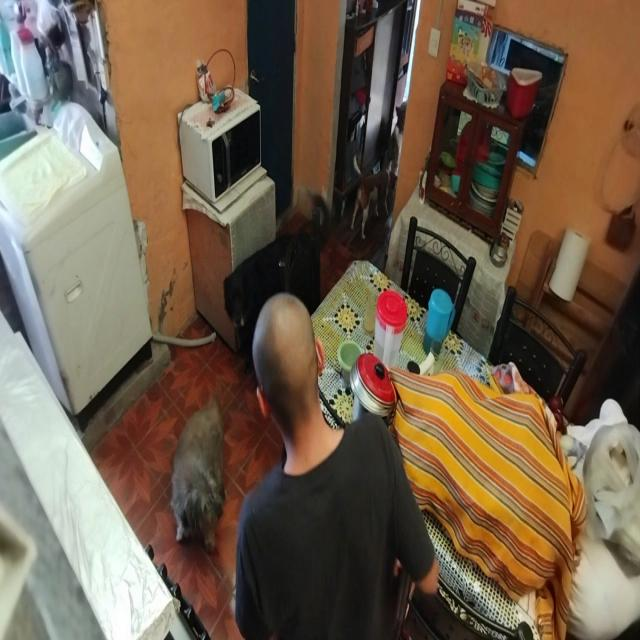adult: (234, 291, 445, 640)
